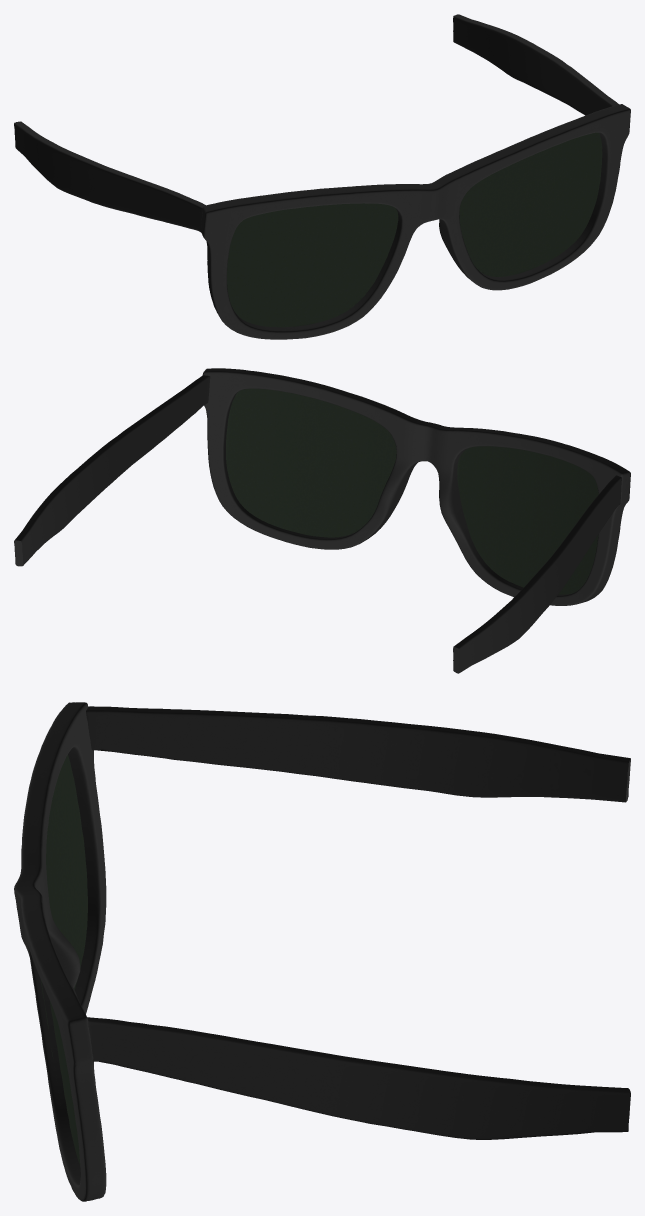
Rendered from justin.obj.
3 views of the same model, one above another, from view 1: azimuth 30°, elevation 25°; view 2: azimuth 150°, elevation 25°; view 3: azimuth 270°, elevation 25° (orthographic). The views are drawn at different scales.
Parts seen in each view (by area): view 1: armacao_obj; view 2: armacao_obj; view 3: armacao_obj.
Boxes of the visible parts, left/top/right/bottom form: armacao_obj: left=14, top=14, right=630, bottom=339; armacao_obj: left=14, top=368, right=630, bottom=673; armacao_obj: left=14, top=702, right=630, bottom=1201.
Bounding box in the file's own units: 0.1654 × 0.0529 × 0.1235.
Materials: 2 (2 with a texture image).
